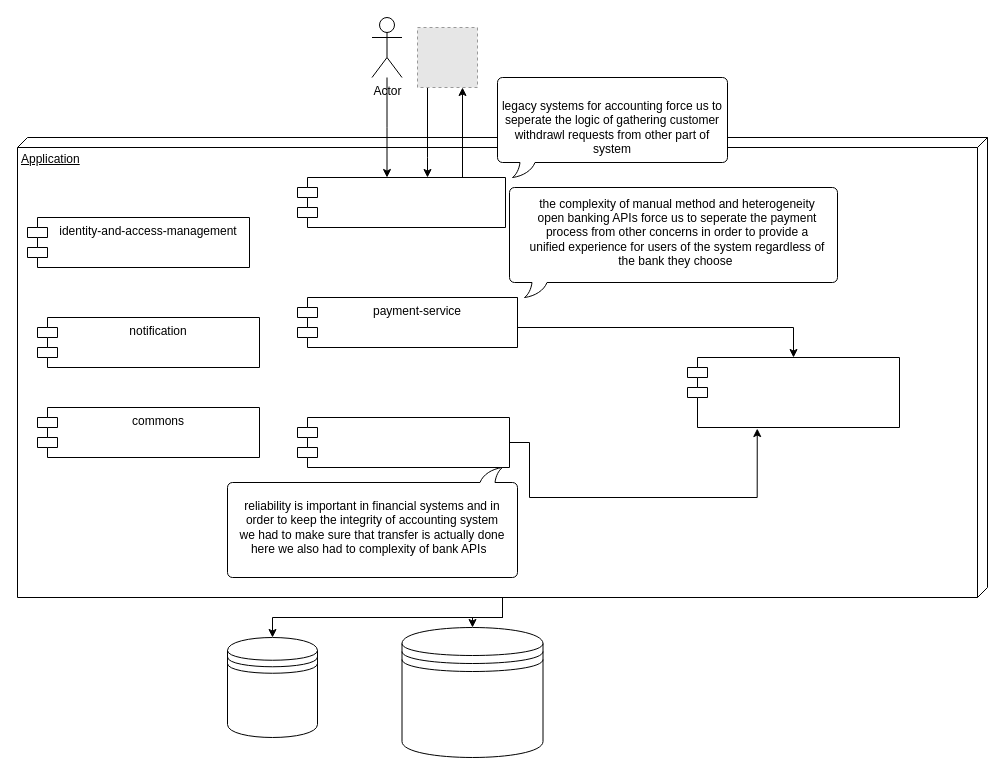
Image size: 1005x775. Some labels were removed from this diagram. Grey dashed boxes stand in for pictures. Here are the shapes that lost their labels. From the top down, the centre of each, then its label:
At pixel 401 202: "customer-request-handler".
At pixel 793 392: "bank-connectors(authentication,api-signature,request,response-errorHandling)".
At pixel 403 442: "customer-request-tracker".
At pixel 272 687: "Redis".
At pixel 472 692: "RDBMS".
